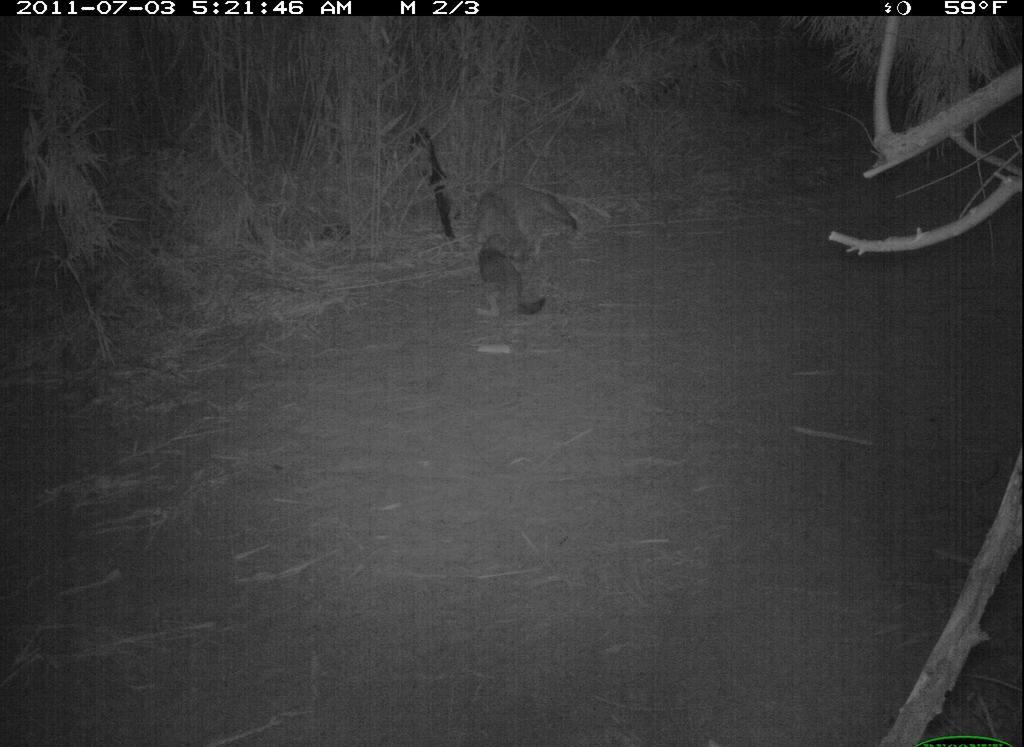coyote: (473, 178, 578, 318), (474, 232, 553, 333)
